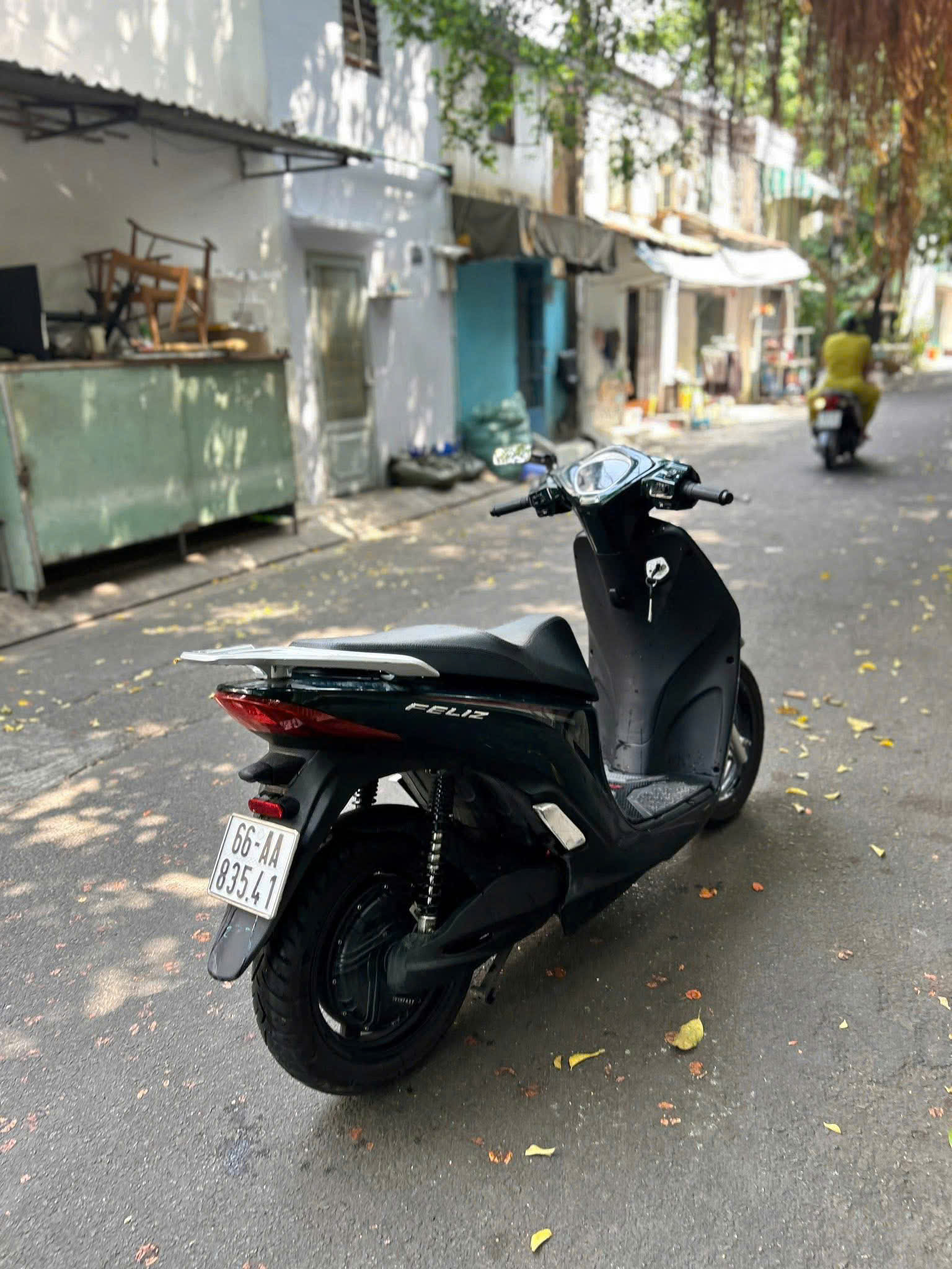Bien-so: (194, 812, 292, 923)
